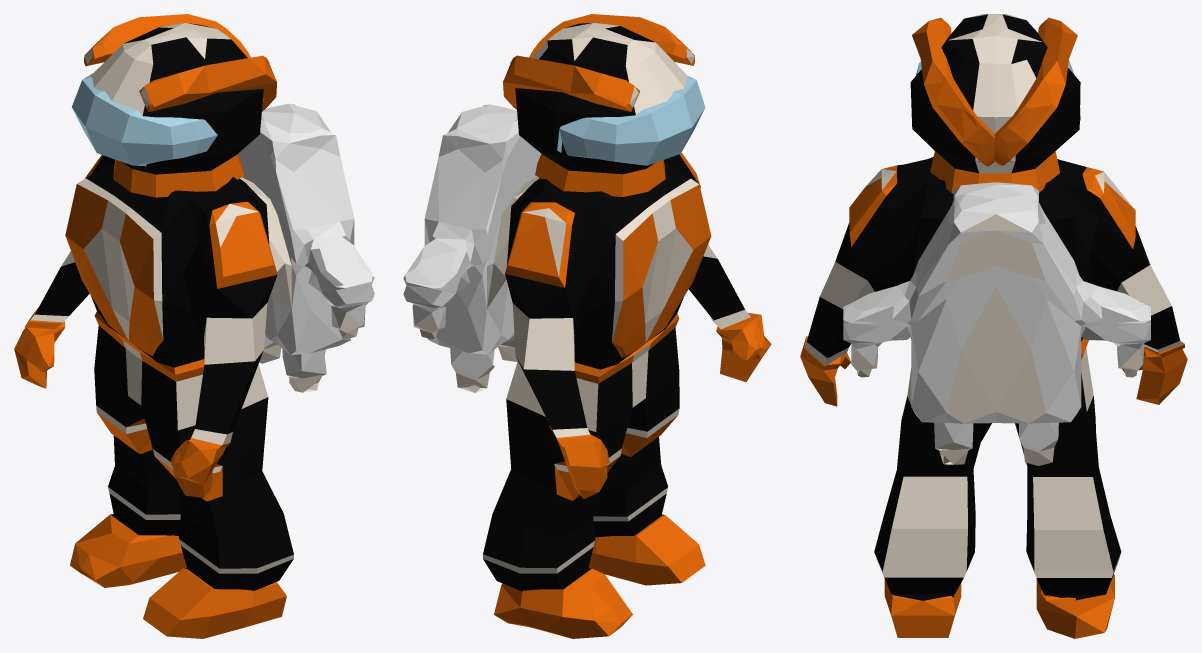
The model's file is PlayerBlack 1.fbx.
3 views of the same model, side by side, from view 1: azimuth 30°, elevation 25°; view 2: azimuth 150°, elevation 25°; view 3: azimuth 270°, elevation 25° (orthographic). The views are drawn at different scales.
Parts seen in each view (by area): view 1: Body, Jetpack, Visor, Headlamp1; view 2: Body, Jetpack, Visor, Headlamp1; view 3: Body, Jetpack, Headlamp1.
Boxes of the visible parts, x1,y1,x2,y2 form: Body: [14, 23, 293, 638]; Jetpack: [238, 103, 374, 392]; Visor: [72, 73, 217, 166]; Headlamp1: [84, 14, 276, 112]; Body: [483, 23, 771, 638]; Jetpack: [403, 104, 541, 393]; Visor: [557, 76, 705, 165]; Headlamp1: [503, 14, 694, 111]; Body: [800, 14, 1187, 638]; Jetpack: [843, 182, 1150, 465]; Headlamp1: [912, 17, 1077, 165].
Size of the model in its own units: 271 by 625 by 376.
